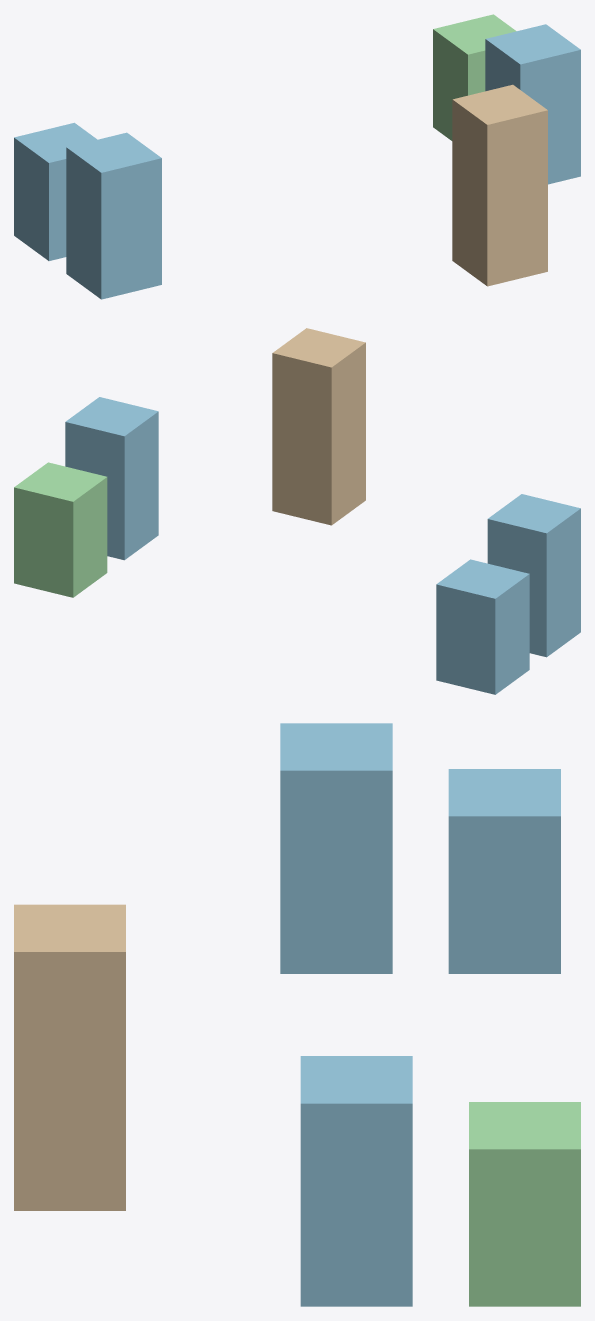
Rendered from city.fbx.
3 views of the same model, one above another, from view 1: azimuth 30°, elevation 25°; view 2: azimuth 150°, elevation 25°; view 3: azimuth 270°, elevation 25° (orthographic). The views are drawn at different scales.
Visible parts, largest first — view 1: City; view 2: City; view 3: City.
Boxes of the visible parts, x1,y1,x2,y2 form: City: [14, 14, 580, 299]; City: [14, 328, 580, 694]; City: [14, 723, 580, 1306].
Size of the model in its own units: 1605 by 1011 by 510.
